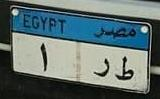1: (38, 40, 51, 73)
Taa: (114, 56, 134, 84)
raa: (90, 56, 111, 79)
